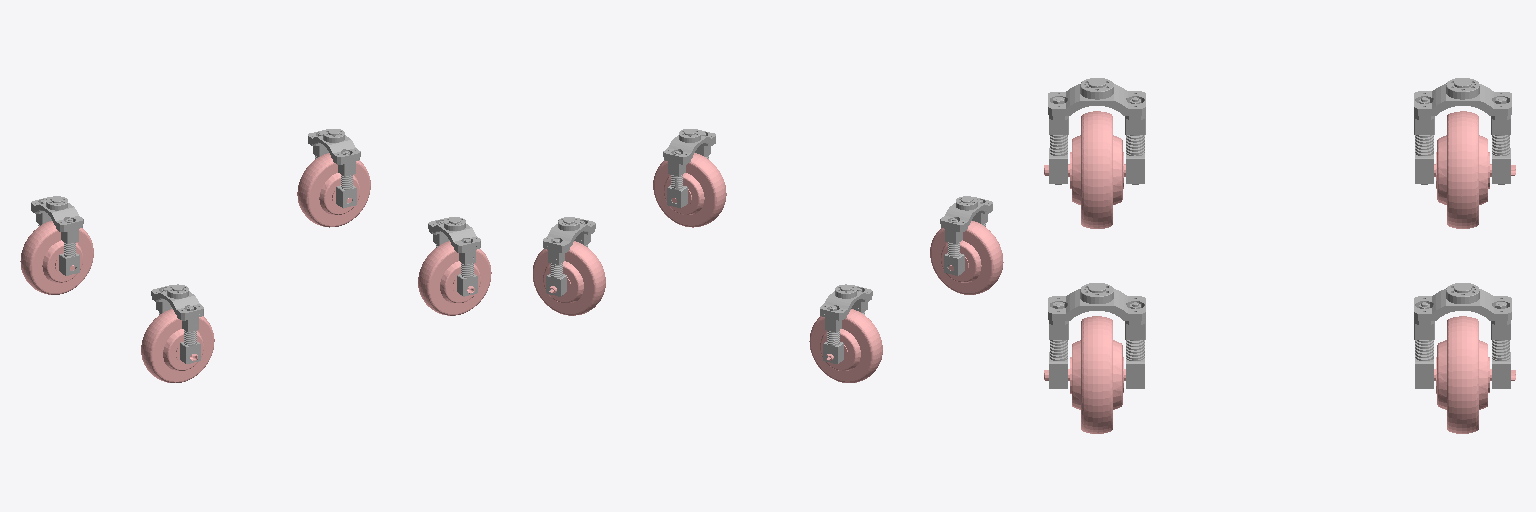
--- Facts derived from the render (not from the file) ---
Views: 3 orthographic renders of the robot side by side, from view 1: azimuth 30°, elevation 25°; view 2: azimuth 150°, elevation 25°; view 3: azimuth 270°, elevation 25°.
Robot: holonomic_base — 21 links, 20 joints (10 revolute, 4 continuous, 6 fixed); root link base_link; default pose: every joint at zero.
Links seen in each view (by area): view 1: wheel_fr, wheel_rr, wheel_fl, wheel_rl, leg_rl, leg_fl, leg_fr, leg_rr; view 2: wheel_fl, wheel_rl, wheel_rr, wheel_fr, leg_rr, leg_fr, leg_rl, leg_fl; view 3: leg_fl, leg_fr, leg_rl, leg_rr, wheel_rr, wheel_fr, wheel_rl, wheel_fl.
Boxes of the visible links, x1=… form: wheel_fr: x1=418, y1=241, x2=491, y2=315; wheel_rr: x1=141, y1=309, x2=214, y2=382; wheel_fl: x1=297, y1=153, x2=370, y2=227; wheel_rl: x1=20, y1=221, x2=93, y2=294; leg_rl: x1=31, y1=196, x2=83, y2=275; leg_fl: x1=308, y1=129, x2=360, y2=208; leg_fr: x1=428, y1=217, x2=480, y2=296; leg_rr: x1=151, y1=284, x2=203, y2=363; wheel_fl: x1=533, y1=241, x2=605, y2=315; wheel_rl: x1=809, y1=309, x2=882, y2=382; wheel_rr: x1=930, y1=221, x2=1003, y2=294; wheel_fr: x1=653, y1=153, x2=726, y2=227; leg_rr: x1=940, y1=196, x2=992, y2=275; leg_fr: x1=663, y1=129, x2=715, y2=208; leg_rl: x1=820, y1=284, x2=872, y2=363; leg_fl: x1=543, y1=217, x2=595, y2=296; leg_fl: x1=1414, y1=283, x2=1511, y2=388; leg_fr: x1=1048, y1=283, x2=1145, y2=388; leg_rl: x1=1414, y1=78, x2=1511, y2=184; leg_rr: x1=1048, y1=78, x2=1145, y2=184; wheel_rr: x1=1044, y1=111, x2=1125, y2=228; wheel_fr: x1=1044, y1=316, x2=1125, y2=433; wheel_rl: x1=1434, y1=111, x2=1515, y2=228; wheel_fl: x1=1434, y1=316, x2=1515, y2=433.
Size in the robot's own frame: 0.7089 by 0.5538 by 0.1835 metres.
8 mesh visuals loaded from 16 distinct referenced files (8 binary STL); not drawn: 8 (reference not matched to a file when rendering).

The robot description file, URDF, robot "holonomic_base":
<?xml version="1.0" ?>
<!-- =================================================================================== -->
<!-- |    This document was autogenerated by xacro from holonomic_mm_arm.urdf.xacro    | -->
<!-- |    EDITING THIS FILE BY HAND IS NOT RECOMMENDED                                 | -->
<!-- =================================================================================== -->
<robot name="holonomic_base">
  <!-- "" -->
  <link name="base_link"/>
  <link name="m_body">
    <inertial>
      <origin rpy="0 0 0" xyz="-0.0107573806983678 -0.000121111379146382 0.168820068401291"/>
      <mass value="7.75262327008847"/>
      <inertia ixx="0.0674364406464489" ixy="2.6530001859869E-06" ixz="-2.02885454828053E-06" iyy="0.0607129183001536" iyz="-2.82546028667119E-08" izz="0.117886359812438"/>
    </inertial>
    <visual>
      <origin rpy="0 0 0" xyz="0 0 0"/>
      <geometry>
        <mesh filename="package://swerve_description/meshes/holonomic/base_link.STL"/>
      </geometry>
      <material name="">
        <color rgba="0.752941176470588 0.752941176470588 0.752941176470588 1"/>
      </material>
    </visual>
    <collision>
      <origin rpy="0 0 0" xyz="0 0 0"/>
      <geometry>
        <mesh filename="package://swerve_description/meshes/holonomic/base_link.STL"/>
      </geometry>
    </collision>
  </link>
  <joint name="xbase_arm_joint" type="fixed">
    <origin rpy="0 0 0" xyz="0.2625 0 0.2745"/>
    <parent link="base_link"/>
    <child link="x_arm_link"/>
  </joint>
  <joint name="base_link_to_body" type="fixed">
    <parent link="base_link"/>
    <child link="m_body"/>
    <origin xyz="0 0 0"/>
  </joint>
  <link name="leg_fl">
    <inertial>
      <origin rpy="0 0 0" xyz="0.0 0.0 -0.041346"/>
      <mass value="0.1509"/>
      <inertia ixx="8.621E-05" ixy="-2.6953E-09" ixz="-8.1387E-10" iyy="5.4519E-05" iyz="1.5042E-09" izz="6.6419E-05"/>
    </inertial>
    <visual>
      <origin rpy="0 0 0" xyz="0 0 0"/>
      <geometry>
        <mesh filename="package://swerve_description/meshes/holonomic/turn_front_left_link.STL"/>
      </geometry>
      <material name="">
        <color rgba="0.75294 0.75294 0.75294 1"/>
      </material>
    </visual>
    <collision>
      <origin rpy="0 0 0" xyz="0 0 0"/>
      <geometry>
        <mesh filename="package://swerve_description/meshes/holonomic/turn_front_left_link.STL"/>
      </geometry>
    </collision>
  </link>
  <joint name="left_front_steer_joint" type="revolute">
    <origin rpy="3.141592653589793 0 3.141592653589793" xyz="0.285 0.215 0.1705"/>
    <parent link="base_link"/>
    <child link="leg_fl"/>
    <axis xyz="0 0 1"/>
    <limit effort="20.0" lower="-3.341" upper="3.341" velocity="5.76"/>
    <safety_controller k_position="100" k_velocity="100" soft_lower_limit="-3.141" soft_upper_limit="3.141"/>
    <joint_properties damping="1.0" friction="5.0"/>
  </joint>
  <transmission name="leg_fl_trans">
    <type>transmission_interface/SimpleTransmission</type>
    <actuator name="$leg_fl_steering">
      <mechanicalReduction>1</mechanicalReduction>
    </actuator>
    <joint name="left_front_steer_joint">
      <hardwareInterface>hardware_interface/VelocityJointInterface</hardwareInterface>
    </joint>
  </transmission>
  <link name="leg_fr">
    <inertial>
      <origin rpy="0 0 0" xyz="-2.4774E-06 4.2768E-06 -0.041346"/>
      <mass value="0.1509"/>
      <inertia ixx="8.621E-05" ixy="-2.6953E-09" ixz="8.1387E-10" iyy="5.4519E-05" iyz="-1.5042E-09" izz="6.6419E-05"/>
    </inertial>
    <visual>
      <origin rpy="0 0 0" xyz="0 0 0"/>
      <geometry>
        <mesh filename="package://swerve_description/meshes/holonomic/turn_front_right_link.STL"/>
      </geometry>
      <material name="">
        <color rgba="0.75294 0.75294 0.75294 1"/>
      </material>
    </visual>
    <collision>
      <origin rpy="0 0 0" xyz="0 0 0"/>
      <geometry>
        <mesh filename="package://swerve_description/meshes/holonomic/turn_front_right_link.STL"/>
      </geometry>
    </collision>
  </link>
  <joint name="right_front_steer_joint" type="revolute">
    <origin rpy="3.14159265358979 0 3.14159265358979" xyz="0.285 -0.215 0.1705"/>
    <!-- <origin xyz="0.585 -0.215 0.1705" rpy="3.14159265358979 0 3.14159265358979" /> -->
    <parent link="base_link"/>
    <child link="leg_fr"/>
    <axis xyz="0 0 1"/>
    <limit effort="20.0" lower="-3.341" upper="3.341" velocity="5.76"/>
    <safety_controller k_position="100" k_velocity="100" soft_lower_limit="-3.141" soft_upper_limit="3.141"/>
    <joint_properties damping="1.0" friction="5.0"/>
  </joint>
  <transmission name="leg_fr_trans">
    <type>transmission_interface/SimpleTransmission</type>
    <actuator name="$leg_fr_steering">
      <mechanicalReduction>1</mechanicalReduction>
    </actuator>
    <joint name="right_front_steer_joint">
      <hardwareInterface>hardware_interface/VelocityJointInterface</hardwareInterface>
    </joint>
  </transmission>
  <link name="leg_rl">
    <inertial>
      <origin rpy="0 0 0" xyz="2.47739936293234E-06 -0.00390427681696906 0.0596537478356015"/>
      <mass value="0.150899435444674"/>
      <inertia ixx="8.62104557625573E-05" ixy="-2.69534706876987E-09" ixz="-8.13867681148677E-10" iyy="5.45191084176943E-05" iyz="1.50418273401286E-09" izz="6.64192852433824E-05"/>
    </inertial>
    <visual>
      <origin rpy="0 0 0" xyz="0 0 0"/>
      <geometry>
        <mesh filename="package://swerve_description/meshes/holonomic/turn_back_left_link.STL"/>
      </geometry>
      <material name="">
        <color rgba="0.752941176470588 0.752941176470588 0.752941176470588 1"/>
      </material>
    </visual>
    <collision>
      <origin rpy="0 0 0" xyz="0 0 0"/>
      <geometry>
        <mesh filename="package://swerve_description/meshes/holonomic/turn_back_left_link.STL"/>
      </geometry>
    </collision>
  </link>
  <joint name="left_back_steer_joint" type="revolute">
    <origin rpy="-3.1416 0 0" xyz="-0.285 0.215 0.1705"/>
    <!-- <origin xyz="-0.585 0.215 0.1705" rpy="-3.1416 0 0" /> -->
    <parent link="base_link"/>
    <child link="leg_rl"/>
    <axis xyz="0 0 1"/>
    <limit effort="20.0" lower="-3.341" upper="3.341" velocity="5.76"/>
    <safety_controller k_position="100" k_velocity="100" soft_lower_limit="-3.141" soft_upper_limit="3.141"/>
    <joint_properties damping="1.0" friction="5.0"/>
  </joint>
  <transmission name="leg_rl_trans">
    <type>transmission_interface/SimpleTransmission</type>
    <actuator name="$leg_rl_steering">
      <mechanicalReduction>1</mechanicalReduction>
    </actuator>
    <joint name="left_back_steer_joint">
      <hardwareInterface>hardware_interface/VelocityJointInterface</hardwareInterface>
    </joint>
  </transmission>
  <link name="leg_rr">
    <inertial>
      <origin rpy="0 0 0" xyz="-2.4774E-06 4.2768E-06 -0.041346"/>
      <mass value="0.1509"/>
      <inertia ixx="8.621E-05" ixy="-2.6953E-09" ixz="8.1387E-10" iyy="5.4519E-05" iyz="-1.5042E-09" izz="6.6419E-05"/>
    </inertial>
    <visual>
      <origin rpy="0 0 0" xyz="0 0 0"/>
      <geometry>
        <mesh filename="package://swerve_description/meshes/holonomic/turn_back_right_link.STL"/>
      </geometry>
      <material name="">
        <color rgba="0.75294 0.75294 0.75294 1"/>
      </material>
    </visual>
    <collision>
      <origin rpy="0 0 0" xyz="0 0 0"/>
      <geometry>
        <mesh filename="package://swerve_description/meshes/holonomic/turn_back_right_link.STL"/>
      </geometry>
    </collision>
  </link>
  <joint name="right_back_steer_joint" type="revolute">
    <origin rpy="3.1416 0 0" xyz="-0.285 -0.215 0.1705"/>
    <!-- <origin xyz="-0.585 -0.215 0.1705" rpy="3.1416 0 0" /> -->
    <parent link="base_link"/>
    <child link="leg_rr"/>
    <axis xyz="0 0 1"/>
    <limit effort="20.0" lower="-3.341" upper="3.341" velocity="5.76"/>
    <safety_controller k_position="100" k_velocity="100" soft_lower_limit="-3.141" soft_upper_limit="3.141"/>
    <joint_properties damping="1.0" friction="5.0"/>
  </joint>
  <transmission name="leg_rr_trans">
    <type>transmission_interface/SimpleTransmission</type>
    <actuator name="$leg_rr_steering">
      <mechanicalReduction>1</mechanicalReduction>
    </actuator>
    <joint name="right_back_steer_joint">
      <hardwareInterface>hardware_interface/VelocityJointInterface</hardwareInterface>
    </joint>
  </transmission>
  <link name="wheel_fl">
    <inertial>
      <origin rpy="0 0 0" xyz="-6.7203E-07 -0.0039185 1.1995E-07"/>
      <mass value="1.7978"/>
      <inertia ixx="0.0022135" ixy="1.588E-07" ixz="2.5603E-08" iyy="0.003666" iyz="-1.0669E-08" izz="0.0022134"/>
    </inertial>
    <visual>
      <origin rpy="0 0 0" xyz="0 0 0"/>
      <geometry>
        <mesh filename="package://swerve_description/meshes/holonomic/wheel_front_left_link.STL"/>
      </geometry>
      <material name="">
        <color rgba="1 0.75294 0.75294 1"/>
      </material>
    </visual>
    <collision>
      <origin rpy="0 0 0" xyz="0 0 0"/>
      <geometry>
        <mesh filename="package://swerve_description/meshes/holonomic/wheel_front_left_link.STL"/>
      </geometry>
    </collision>
  </link>
  <joint name="left_front_wheel_joint" type="continuous">
    <origin rpy="-1.5708 1.5708 0" xyz="0 0.0039 0.101"/>
    <parent link="leg_fl"/>
    <child link="wheel_fl"/>
    <axis xyz="0 0 1"/>
    <limit effort="1000" velocity="11.52"/>
    <safety_controller k_position="100" k_velocity="100"/>
    <joint_properties damping="1.0" friction="5.0"/>
  </joint>
  <transmission name="wheel_fl_trans">
    <type>transmission_interface/SimpleTransmission</type>
    <actuator name="wheel_fl_drive">
      <mechanicalReduction>1</mechanicalReduction>
    </actuator>
    <joint name="left_front_wheel_joint">
      <hardwareInterface>hardware_interface/VelocityJointInterface</hardwareInterface>
    </joint>
  </transmission>
  <gazebo reference="wheel_fl">
    <mu1 value="0.7"/>
    <mu2 value="0.5"/>
    <kp value="300000.0"/>
    <kd value="600.0"/>
  </gazebo>
  <link name="wheel_fr">
    <inertial>
      <origin rpy="0 0 0" xyz="6.7203E-07 0.0039185 1.1995E-07"/>
      <mass value="1.7978"/>
      <inertia ixx="0.0022135" ixy="1.588E-07" ixz="-2.5603E-08" iyy="0.003666" iyz="1.0669E-08" izz="0.0022134"/>
    </inertial>
    <visual>
      <origin rpy="0 0 0" xyz="0 0 0"/>
      <geometry>
        <mesh filename="package://swerve_description/meshes/holonomic/wheel_front_right_link.STL"/>
      </geometry>
      <material name="">
        <color rgba="1 0.75294 0.75294 1"/>
      </material>
    </visual>
    <collision>
      <origin rpy="0 0 0" xyz="0 0 0"/>
      <geometry>
        <mesh filename="package://swerve_description/meshes/holonomic/wheel_front_right_link.STL"/>
      </geometry>
    </collision>
  </link>
  <joint name="right_front_wheel_joint" type="continuous">
    <origin rpy="1.5707963267949 1.5707963267949 0" xyz="0 -0.0039 0.101"/>
    <parent link="leg_fr"/>
    <child link="wheel_fr"/>
    <axis xyz="0 0 1"/>
    <limit effort="1000" velocity="11.52"/>
    <safety_controller k_position="100" k_velocity="100"/>
    <joint_properties damping="1.0" friction="5.0"/>
  </joint>
  <transmission name="wheel_fr_trans">
    <type>transmission_interface/SimpleTransmission</type>
    <actuator name="wheel_fr_drive">
      <mechanicalReduction>1</mechanicalReduction>
    </actuator>
    <joint name="right_front_wheel_joint">
      <hardwareInterface>hardware_interface/VelocityJointInterface</hardwareInterface>
    </joint>
  </transmission>
  <gazebo reference="wheel_fr">
    <mu1 value="0.7"/>
    <mu2 value="0.5"/>
    <kp value="300000.0"/>
    <kd value="600.0"/>
  </gazebo>
  <link name="wheel_rl">
    <inertial>
      <origin rpy="0 0 0" xyz="-6.7203E-07 -0.0039185 1.1995E-07"/>
      <mass value="1.7978"/>
      <inertia ixx="0.0022135" ixy="1.588E-07" ixz="2.5603E-08" iyy="0.003666" iyz="-1.0669E-08" izz="0.0022134"/>
    </inertial>
    <visual>
      <origin rpy="0 0 0" xyz="0 0 0"/>
      <geometry>
        <mesh filename="package://swerve_description/meshes/holonomic/wheel_back_left_link.STL"/>
      </geometry>
      <material name="">
        <color rgba="1 0.75294 0.75294 1"/>
      </material>
    </visual>
    <collision>
      <origin rpy="0 0 0" xyz="0 0 0"/>
      <geometry>
        <mesh filename="package://swerve_description/meshes/holonomic/wheel_back_left_link.STL"/>
      </geometry>
    </collision>
  </link>
  <joint name="left_back_wheel_joint" type="continuous">
    <origin rpy="1.5708 1.5708 0" xyz="0 -0.0039 0.101"/>
    <parent link="leg_rl"/>
    <child link="wheel_rl"/>
    <axis xyz="0 0 1"/>
    <limit effort="1000" velocity="11.52"/>
    <safety_controller k_position="100" k_velocity="100"/>
    <joint_properties damping="1.0" friction="5.0"/>
  </joint>
  <transmission name="wheel_rl_trans">
    <type>transmission_interface/SimpleTransmission</type>
    <actuator name="wheel_rl_drive">
      <mechanicalReduction>1</mechanicalReduction>
    </actuator>
    <joint name="left_back_wheel_joint">
      <hardwareInterface>hardware_interface/VelocityJointInterface</hardwareInterface>
    </joint>
  </transmission>
  <gazebo reference="wheel_rl">
    <mu1 value="0.7"/>
    <mu2 value="0.5"/>
    <kp value="300000.0"/>
    <kd value="600.0"/>
  </gazebo>
  <link name="wheel_rr">
    <inertial>
      <origin rpy="0 0 0" xyz="6.7203E-07 0.0039185 1.1995E-07"/>
      <mass value="1.7978"/>
      <inertia ixx="0.0022135" ixy="1.588E-07" ixz="-2.5603E-08" iyy="0.003666" iyz="1.0669E-08" izz="0.0022134"/>
    </inertial>
    <visual>
      <origin rpy="0 0 0" xyz="0 0 0"/>
      <geometry>
        <mesh filename="package://swerve_description/meshes/holonomic/wheel_back_right_link.STL"/>
      </geometry>
      <material name="">
        <color rgba="1 0.75294 0.75294 1"/>
      </material>
    </visual>
    <collision>
      <origin rpy="0 0 0" xyz="0 0 0"/>
      <geometry>
        <mesh filename="package://swerve_description/meshes/holonomic/wheel_back_right_link.STL"/>
      </geometry>
    </collision>
  </link>
  <joint name="right_back_wheel_joint" type="continuous">
    <origin rpy="-1.5707963267949 1.5707963267949 0" xyz="0 0.0039 0.101"/>
    <parent link="leg_rr"/>
    <child link="wheel_rr"/>
    <axis xyz="0 0 1"/>
    <limit effort="1000" velocity="11.52"/>
    <safety_controller k_position="100" k_velocity="100"/>
    <joint_properties damping="1.0" friction="5.0"/>
  </joint>
  <transmission name="wheel_rr_trans">
    <type>transmission_interface/SimpleTransmission</type>
    <actuator name="wheel_rr_drive">
      <mechanicalReduction>1</mechanicalReduction>
    </actuator>
    <joint name="right_back_wheel_joint">
      <hardwareInterface>hardware_interface/VelocityJointInterface</hardwareInterface>
    </joint>
  </transmission>
  <gazebo reference="wheel_rr">
    <mu1 value="0.7"/>
    <mu2 value="0.5"/>
    <kp value="300000.0"/>
    <kd value="600.0"/>
  </gazebo>
  <link name="x_arm_link">
    <inertial>
      <origin rpy="0 0 0" xyz="-0.000648 -0.000166 0.084487"/>
      <mass value="1.697"/>
      <inertia ixx="0.004622" ixy="9E-06" ixz="6E-05" iyy="0.004495" iyz="9E-06" izz="0.002079"/>
    </inertial>
    <visual>
      <origin rpy="0 0 0" xyz="0 0 0"/>
      <geometry>
        <mesh filename="package://swerve_description/meshes/jaco/base_link.STL"/>
      </geometry>
      <material name="">
        <color rgba="0.75294 0.75294 0.75294 1"/>
      </material>
    </visual>
    <collision>
      <origin rpy="0 0 0" xyz="0 0 0"/>
      <geometry>
        <mesh filename="package://swerve_description/meshes/jaco/base_link.STL"/>
      </geometry>
    </collision>
  </link>
  <link name="shoulder_link">
    <inertial>
      <origin rpy="0 0 0" xyz="-2.3E-05 -0.010364 -0.07336"/>
      <mass value="1.377"/>
      <inertia ixx="0.00457" ixy="1E-06" ixz="2E-06" iyy="0.004831" iyz="0.000448" izz="0.001409"/>
    </inertial>
    <visual>
      <origin rpy="0 0 0" xyz="0 0 0"/>
      <geometry>
        <mesh filename="package://swerve_description/meshes/jaco/shoulder_link.STL"/>
      </geometry>
      <material name="">
        <color rgba="0.75294 0.75294 0.75294 1"/>
      </material>
    </visual>
    <collision>
      <origin rpy="0 0 0" xyz="0 0 0"/>
      <geometry>
        <mesh filename="package://swerve_description/meshes/jaco/shoulder_link.STL"/>
      </geometry>
    </collision>
  </link>
  <joint name="SH_JOINT_1" type="revolute">
    <origin rpy="-3.1416 0.0 0.0" xyz="0 0 0.15643"/>
    <parent link="x_arm_link"/>
    <child link="shoulder_link"/>
    <axis xyz="0 0 1"/>
    <limit effort="39.0" lower="-6.28" upper="6.28" velocity="1.3963"/>
    <safety_controller k_position="100" k_velocity="100" soft_lower_limit="-6.2" soft_upper_limit="6.2"/>
    <joint_properties damping="1.0" friction="5.0"/>
  </joint>
  <link name="bicep_link">
    <inertial>
      <origin rpy="0 0 0" xyz="3.5E-05 -0.208207 -0.01889"/>
      <mass value="1.262"/>
      <inertia ixx="0.046752" ixy="-9E-06" ixz="0" iyy="0.00085" iyz="-9.8E-05" izz="0.047188"/>
    </inertial>
    <visual>
      <origin rpy="0 0 0" xyz="0 0 0"/>
      <geometry>
        <mesh filename="package://swerve_description/meshes/jaco/bicep_link.STL"/>
      </geometry>
      <material name="">
        <color rgba="0.75294 0.75294 0.75294 1"/>
      </material>
    </visual>
    <collision>
      <origin rpy="0 0 0" xyz="0 0 0"/>
      <geometry>
        <mesh filename="package://swerve_description/meshes/jaco/bicep_link.STL"/>
      </geometry>
    </collision>
  </link>
  <joint name="SH_JOINT_2" type="revolute">
    <origin rpy="1.5708 0.0 0.0" xyz="0 0.005375 -0.12838"/>
    <parent link="shoulder_link"/>
    <child link="bicep_link"/>
    <axis xyz="0 0 1"/>
    <limit effort="39.0" lower="-2.24" upper="2.24" velocity="1.3963"/>
    <safety_controller k_position="100" k_velocity="100" soft_lower_limit="-2.24" soft_upper_limit="2.24"/>
    <joint_properties damping="1.0" friction="5.0"/>
  </joint>
  <link name="forearm_link">
    <inertial>
      <origin rpy="0 0 0" xyz="1.8E-05 0.076168 -0.01397"/>
      <mass value="0.93"/>
      <inertia ixx="0.008292" ixy="-1E-06" ixz="0" iyy="0.000628" iyz="0.000432" izz="0.008464"/>
    </inertial>
    <visual>
      <origin rpy="0 0 0" xyz="0 0 0"/>
      <geometry>
        <mesh filename="package://swerve_description/meshes/jaco/forearm_link.STL"/>
      </geometry>
      <material name="">
        <color rgba="0.75294 0.75294 0.75294 1"/>
      </material>
    </visual>
    <collision>
      <origin rpy="0 0 0" xyz="0 0 0"/>
      <geometry>
        <mesh filename="package://swerve_description/meshes/jaco/forearm_link.STL"/>
      </geometry>
    </collision>
  </link>
  <joint name="SH_JOINT_3" type="revolute">
    <origin rpy="3.1416 0 0" xyz="0 -0.41 0"/>
    <parent link="bicep_link"/>
    <child link="forearm_link"/>
    <axis xyz="0 0 1"/>
    <limit effort="39.0" lower="-2.57" upper="2.57" velocity="1.3963"/>
    <safety_controller k_position="100" k_velocity="100" soft_lower_limit="-2.57" soft_upper_limit="2.57"/>
    <joint_properties damping="1.0" friction="5.0"/>
  </joint>
  <link name="spherical_wrist_1_link">
    <inertial>
      <origin rpy="0 0 0" xyz="-1E-06 0.008486 -0.062937"/>
      <mass value="0.6781"/>
      <inertia ixx="0.001645" ixy="0" ixz="0" iyy="0.001666" iyz="-0.000234" izz="0.000389"/>
    </inertial>
    <visual>
      <origin rpy="0 0 0" xyz="0 0 0"/>
      <geometry>
        <mesh filename="package://swerve_description/meshes/jaco/spherical_wrist_1_link.STL"/>
      </geometry>
      <material name="">
        <color rgba="0.75294 0.75294 0.75294 1"/>
      </material>
    </visual>
    <collision>
      <origin rpy="0 0 0" xyz="0 0 0"/>
      <geometry>
        <mesh filename="package://swerve_description/meshes/jaco/spherical_wrist_1_link.STL"/>
      </geometry>
    </collision>
  </link>
  <joint name="SH_JOINT_4" type="revolute">
    <origin rpy="1.5708 0.0 0.0" xyz="0 0.20843 -0.006375"/>
    <parent link="forearm_link"/>
    <child link="spherical_wrist_1_link"/>
    <axis xyz="0 0 1"/>
    <limit effort="9.0" lower="-6.28" upper="6.28" velocity="1.2218"/>
    <safety_controller k_position="100" k_velocity="100" soft_lower_limit="-6.18" soft_upper_limit="6.18"/>
    <joint_properties damping="1.0" friction="5.0"/>
  </joint>
  <link name="spherical_wrist_2_link">
    <inertial>
      <origin rpy="0 0 0" xyz="-1E-06 0.046429 -0.008704"/>
      <mass value="0.678"/>
      <inertia ixx="0.001685" ixy="0" ixz="0" iyy="0.0004" iyz="0.000255" izz="0.001696"/>
    </inertial>
    <visual>
      <origin rpy="0 0 0" xyz="0 0 0"/>
      <geometry>
        <mesh filename="package://swerve_description/meshes/jaco/spherical_wrist_2_link.STL"/>
      </geometry>
      <material name="">
        <color rgba="0.75294 0.75294 0.75294 1"/>
      </material>
    </visual>
    <collision>
      <origin rpy="0 0 0" xyz="0 0 0"/>
      <geometry>
        <mesh filename="package://swerve_description/meshes/jaco/spherical_wrist_2_link.STL"/>
      </geometry>
    </collision>
  </link>
  <joint name="SH_JOINT_5" type="revolute">
    <origin rpy="-1.5708 0.0 0.0" xyz="0 -0.00017505 -0.10593"/>
    <parent link="spherical_wrist_1_link"/>
    <child link="spherical_wrist_2_link"/>
    <axis xyz="0 0 1"/>
    <limit effort="9.0" lower="-2.09" upper="2.09" velocity="1.2218"/>
    <safety_controller k_position="100" k_velocity="100" soft_lower_limit="-2.09" soft_upper_limit="2.09"/>
    <joint_properties damping="1.0" friction="5.0"/>
  </joint>
  <link name="bracelet_link">
    <inertial>
      <origin rpy="0 0 0" xyz="0.000281 0.011402 -0.029798"/>
      <mass value="0.5"/>
      <inertia ixx="0.000587" ixy="3E-06" ixz="3E-06" iyy="0.000369" iyz="-0.000118" izz="0.000609"/>
    </inertial>
    <visual>
      <origin rpy="0 0 0" xyz="0 0 0"/>
      <geometry>
        <mesh filename="package://swerve_description/meshes/jaco/bracelet_with_vision_link.STL"/>
      </geometry>
      <material name="">
        <color rgba="0.75294 0.75294 0.75294 1"/>
      </material>
    </visual>
    <collision>
      <origin rpy="0 0 0" xyz="0 0 0"/>
      <geometry>
        <mesh filename="package://swerve_description/meshes/jaco/bracelet_with_vision_link.STL"/>
      </geometry>
    </collision>
  </link>
  <joint name="SH_JOINT_6" type="revolute">
    <origin rpy="1.5708 0.0 0.0" xyz="0 0.10593 -0.00017505"/>
    <parent link="spherical_wrist_2_link"/>
    <child link="bracelet_link"/>
    <axis xyz="0 0 1"/>
    <limit effort="9.0" lower="-3.341" upper="3.341" velocity="1.2218"/>
    <safety_controller k_position="100" k_velocity="100" soft_lower_limit="-3.141" soft_upper_limit="3.141"/>
    <joint_properties damping="1.0" friction="5.0"/>
  </joint>
  <link name="end_effector_link"/>
  <joint name="end_effector" type="fixed">
    <origin rpy="3.14159265358979 1.09937075168372E-32 3.14159265358979" xyz="0 0 -0.0615250000000001"/>
    <parent link="bracelet_link"/>
    <child link="end_effector_link"/>
    <axis xyz="0 0 0"/>
  </joint>
  <link name="camera_link"/>
  <joint name="camera_module" type="fixed">
    <origin rpy="3.14159265358979 3.14159265358979 0" xyz="0 0.05639 -0.00305"/>
    <parent link="end_effector_link"/>
    <child link="camera_link"/>
  </joint>
  <link name="camera_depth_frame"/>
  <joint name="depth_module" type="fixed">
    <origin rpy="3.14159265358979 3.14159265358979 0" xyz="0.0275 0.066 -0.00305"/>
    <parent link="end_effector_link"/>
    <child link="camera_depth_frame"/>
  </joint>
  <link name="camera_color_frame"/>
  <joint name="color_module" type="fixed">
    <origin rpy="3.14159265358979 3.14159265358979 0" xyz="0 0.05639 -0.00305"/>
    <parent link="end_effector_link"/>
    <child link="camera_color_frame"/>
  </joint>
  <transmission name="joint_1_transmission">
    <type>transmission_interface/SimpleTransmission</type>
    <actuator name="joint_1_motor">
      <mechanicalReduction>1</mechanicalReduction>
    </actuator>
    <joint name="SH_JOINT_1">
      <hardwareInterface>hardware_interface/VelocityJointInterface</hardwareInterface>
    </joint>
  </transmission>
  <transmission name="joint_2_transmission">
    <type>transmission_interface/SimpleTransmission</type>
    <joint name="SH_JOINT_2">
      <hardwareInterface>hardware_interface/VelocityJointInterface</hardwareInterface>
    </joint>
    <actuator name="joint_2_motor">
      <mechanicalReduction>1</mechanicalReduction>
    </actuator>
  </transmission>
  <transmission name="joint_3_transmission">
    <type>transmission_interface/SimpleTransmission</type>
    <joint name="SH_JOINT_3">
      <hardwareInterface>hardware_interface/VelocityJointInterface</hardwareInterface>
    </joint>
    <actuator name="joint_3_motor">
      <mechanicalReduction>1</mechanicalReduction>
    </actuator>
  </transmission>
  <transmission name="joint_4_transmission">
    <type>transmission_interface/SimpleTransmission</type>
    <joint name="SH_JOINT_4">
      <hardwareInterface>hardware_interface/VelocityJointInterface</hardwareInterface>
    </joint>
    <actuator name="joint_4_motor">
      <mechanicalReduction>1</mechanicalReduction>
    </actuator>
  </transmission>
  <transmission name="joint_5_transmission">
    <type>transmission_interface/SimpleTransmission</type>
    <joint name="SH_JOINT_5">
      <hardwareInterface>hardware_interface/VelocityJointInterface</hardwareInterface>
    </joint>
    <actuator name="joint_5_motor">
      <mechanicalReduction>1</mechanicalReduction>
    </actuator>
  </transmission>
  <transmission name="joint_6_transmission">
    <type>transmission_interface/SimpleTransmission</type>
    <joint name="SH_JOINT_6">
      <hardwareInterface>hardware_interface/VelocityJointInterface</hardwareInterface>
    </joint>
    <actuator name="joint_6_motor">
      <mechanicalReduction>1</mechanicalReduction>
    </actuator>
  </transmission>
  <gazebo>
    <plugin filename="libgazebo_ros_control.so" name="gazebo_ros_control"/>
  </gazebo>
</robot>
